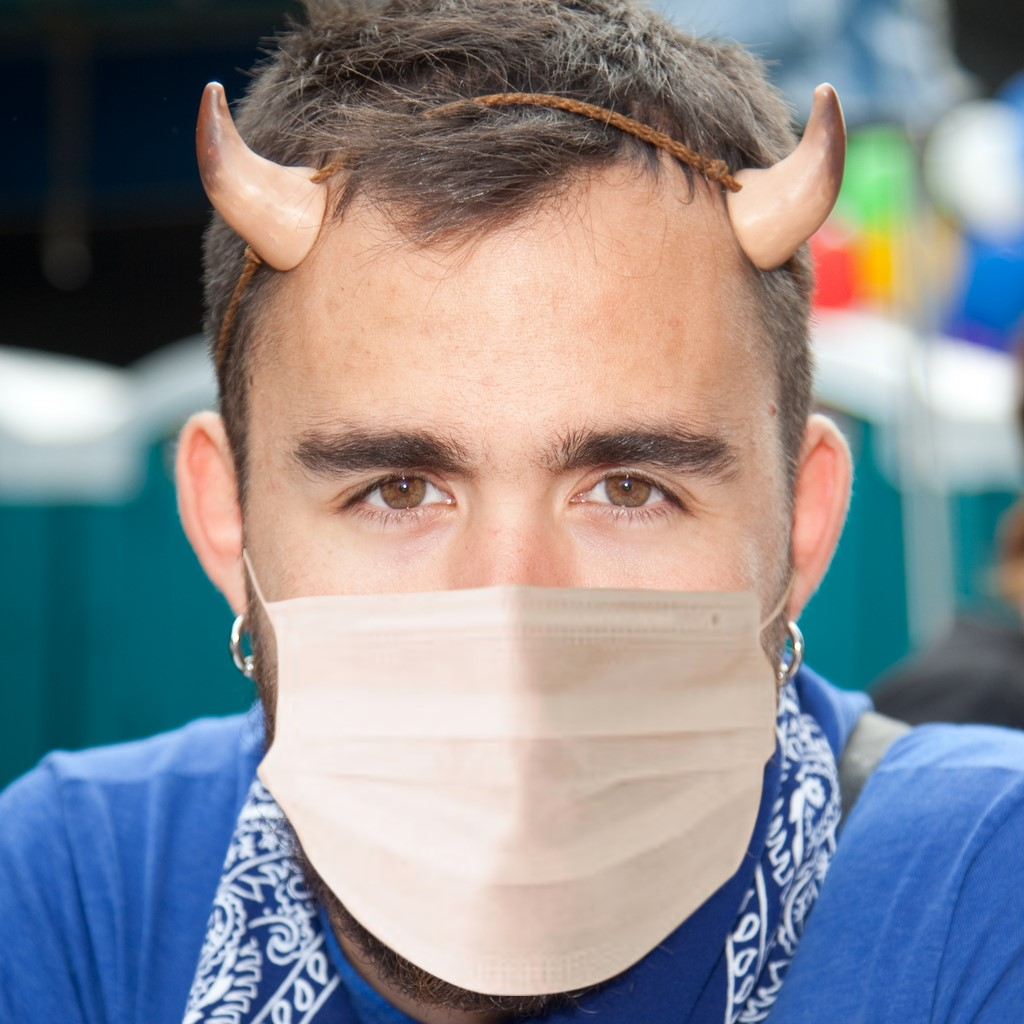con_mascara: (207, 157, 788, 1000)
